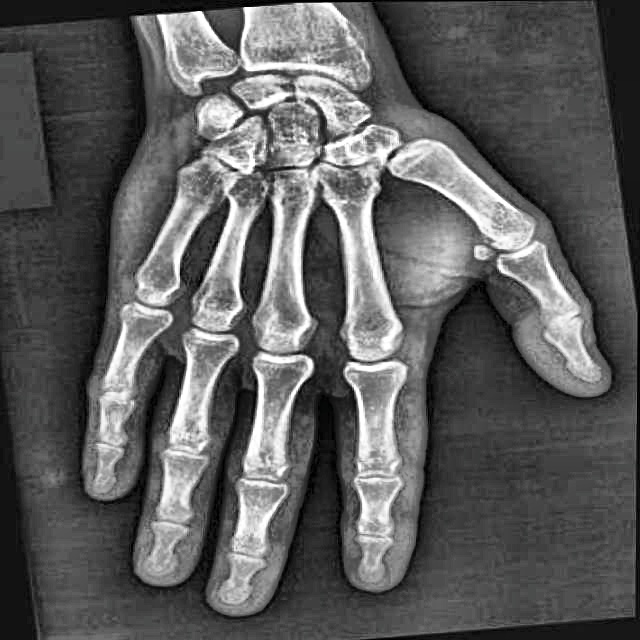Healthy: (60, 46, 561, 577)
